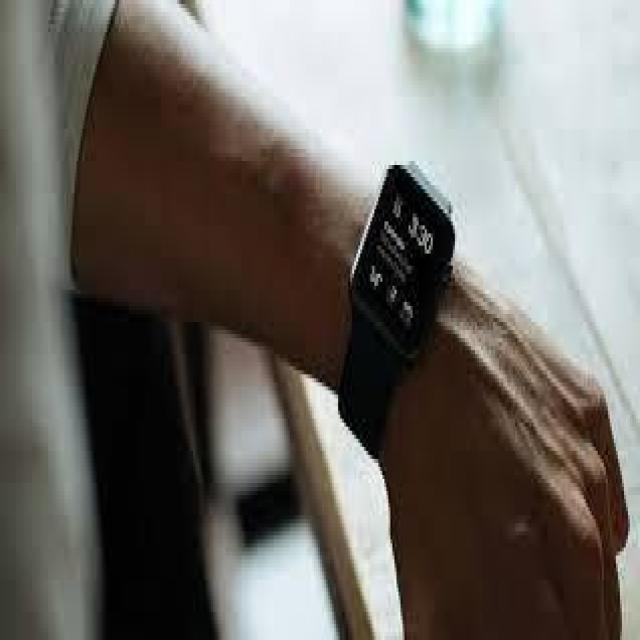watch: (317, 108, 472, 496)
